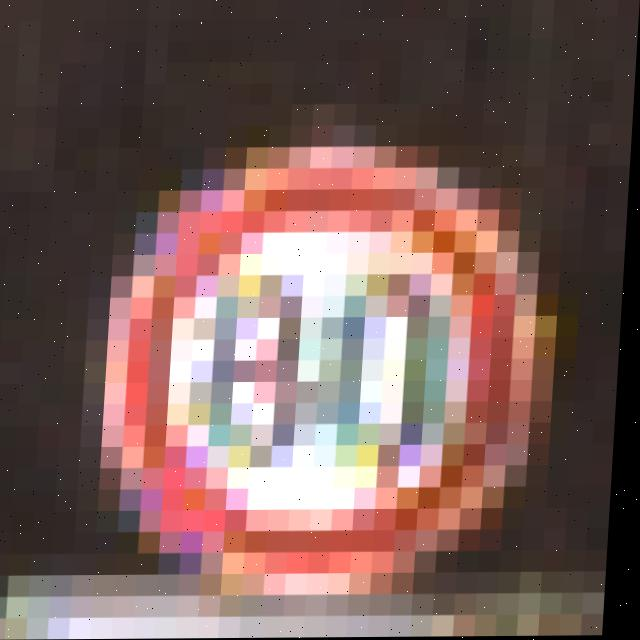speed_limit_80: (99, 167, 538, 601)
